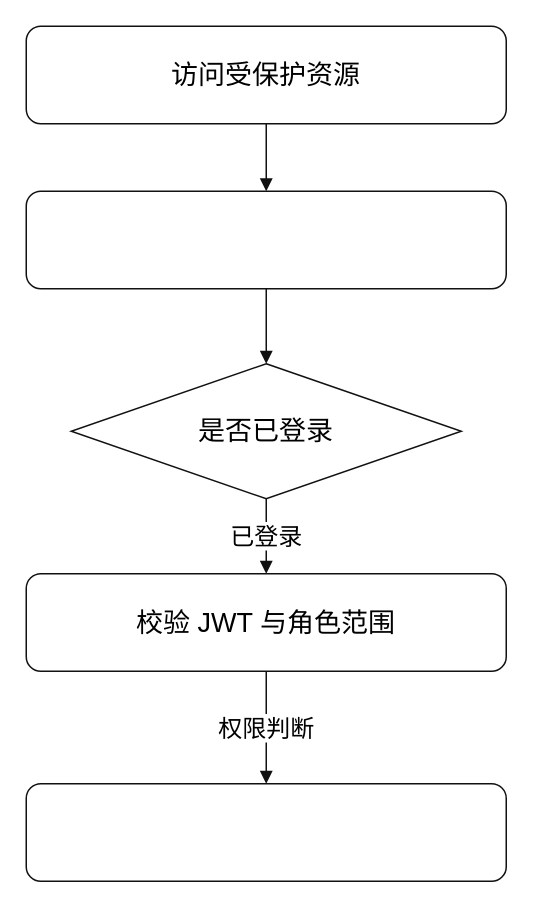
Image size: 533x908. Some labels were removed from this diagram. The centre of each missing label's shape, as x and y in pixels:
检查登录态: [265,239]
返回错误或业务结果: [265,831]
